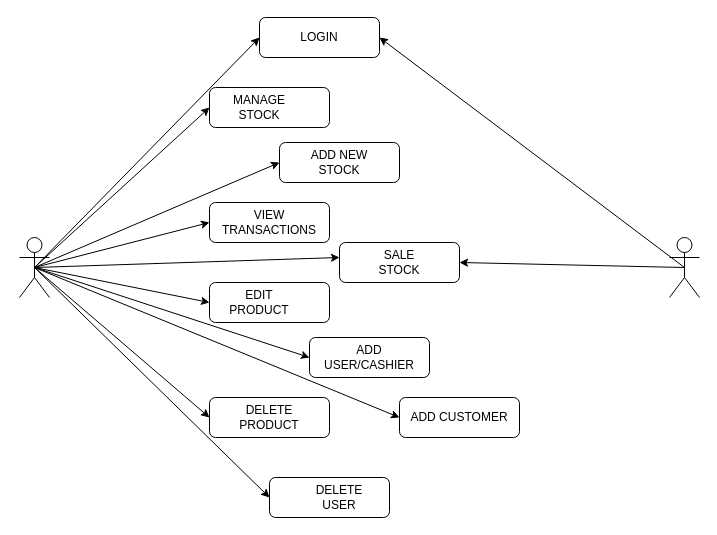
Some shapes in this 717 by 535 pixel diagram are drawn without their labels. Each missing label, with the box of its shape:
Admin: (18, 236, 50, 298)
User: (668, 236, 700, 298)
